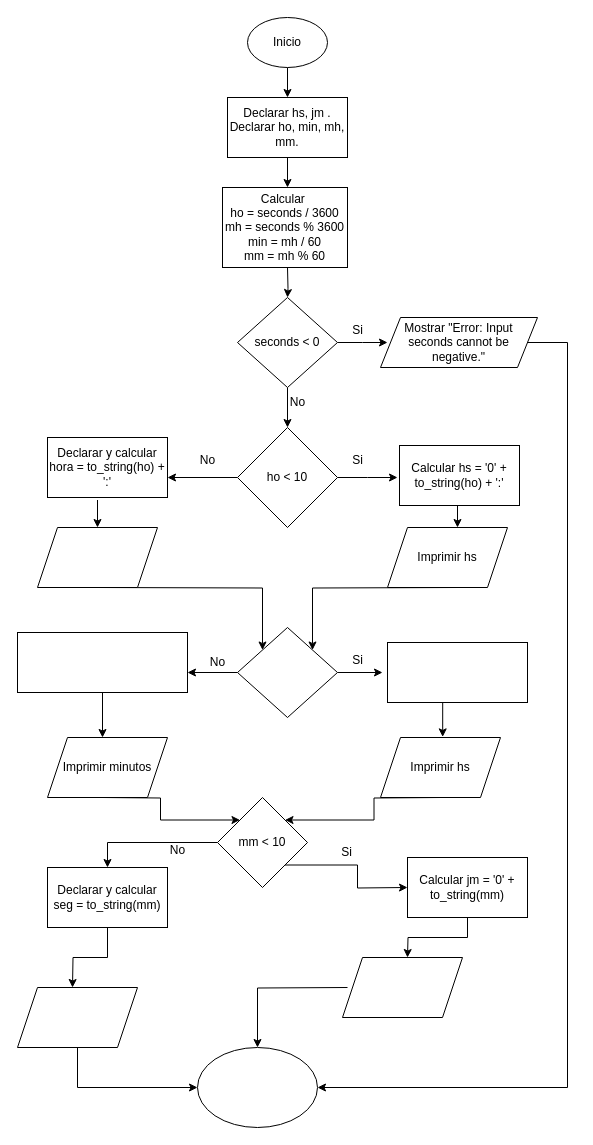
This 593x1145 diagram has some shape labels left out. Each missing label, with the centre of its shape:
"Calcular hs = '0' + to_string(min) + ':'" belongs at pixel 457 672.
"Declarar y calcular minutos = to_string(min) + ':'" belongs at pixel 102 662.
"Fin" belongs at pixel 257 1087.
"Imprimir hora" belongs at pixel 97 557.
"Imprimir jm" belongs at pixel 402 987.
"Imprimir seg" belongs at pixel 77 1017.
"min < 10" belongs at pixel 287 672.
